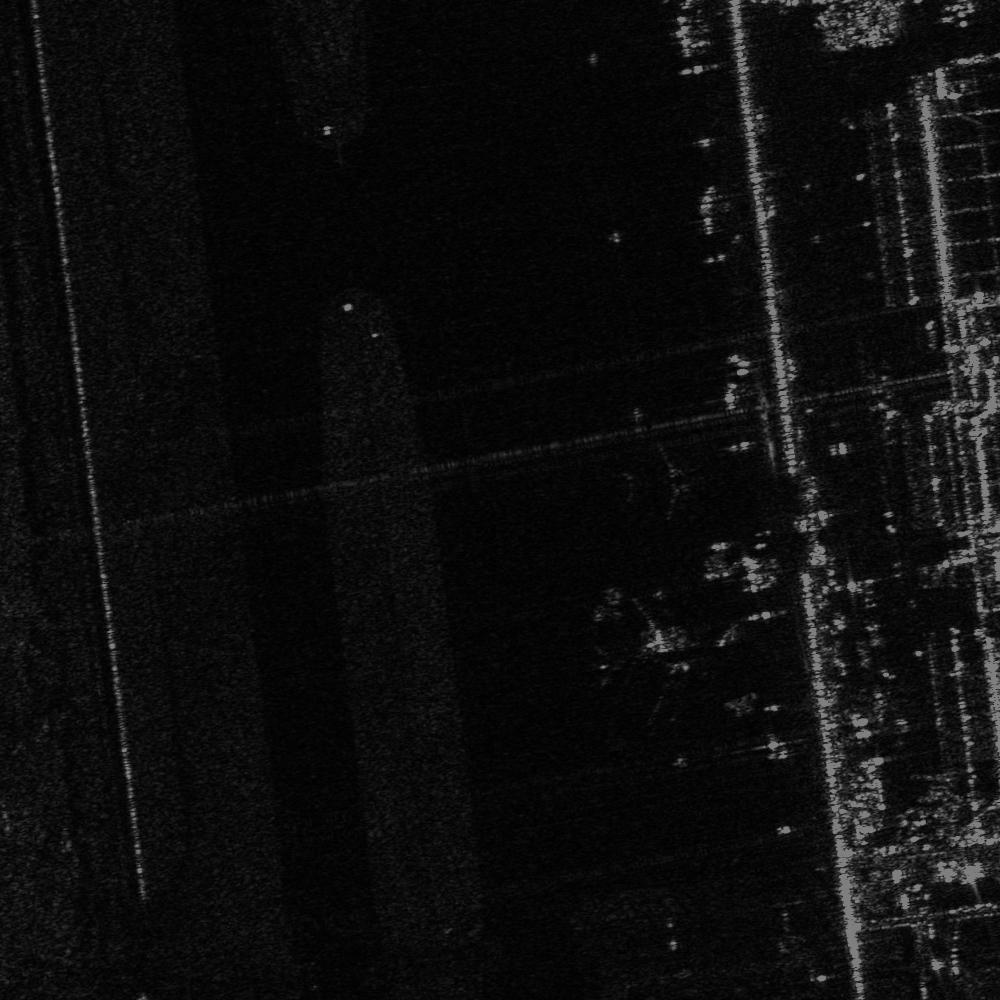Boeing787: (596, 598, 706, 721), (615, 439, 703, 522)
